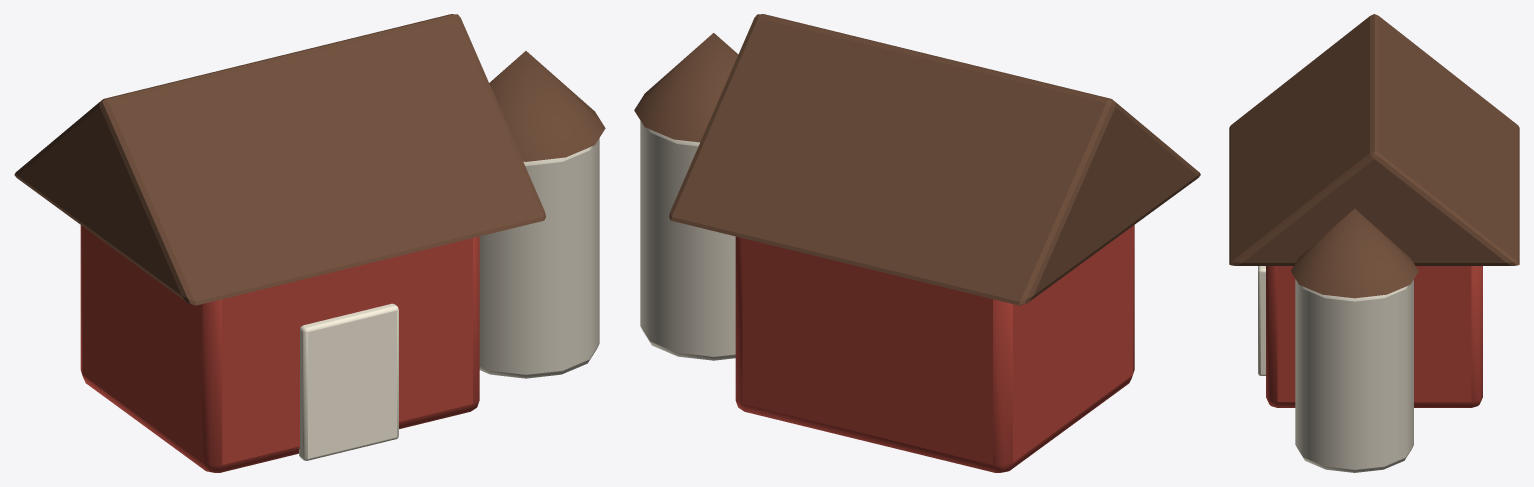
Rendered from barn.glb.
3 renders of one model, left to right at view 1: azimuth 30°, elevation 25°; view 2: azimuth 150°, elevation 25°; view 3: azimuth 270°, elevation 25°, orthographic. The views are drawn at different scales.
Parts seen in each view (by area): view 1: barn; view 2: barn; view 3: barn.
Boxes of the visible parts, left/top/right/bottom form: barn: left=14, top=14, right=605, bottom=472; barn: left=634, top=14, right=1200, bottom=472; barn: left=1229, top=14, right=1519, bottom=472.
Bounding box in the file's own units: 0.455 × 0.3077 × 0.2938.
